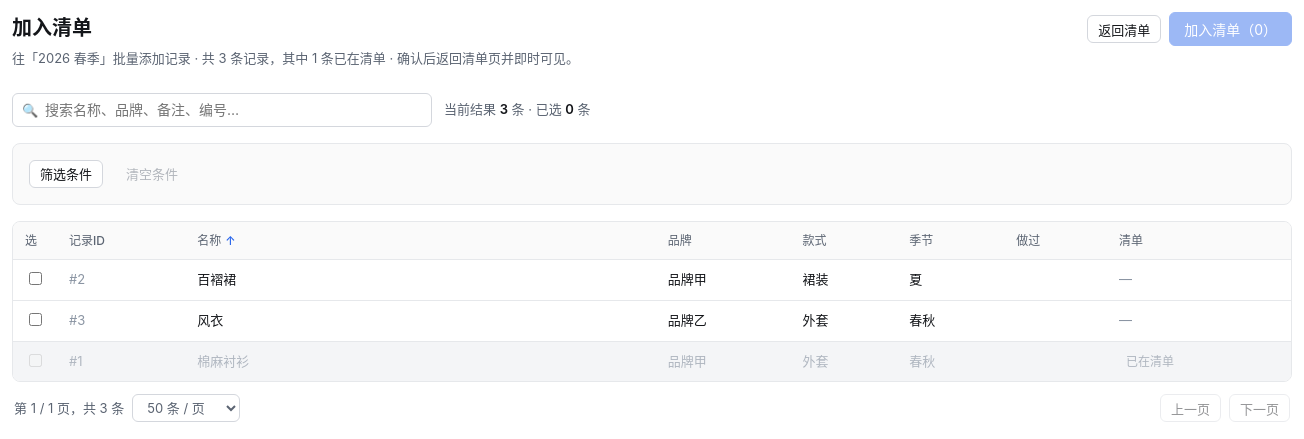
v6.9 · 多选与批量加入 › 搜索过滤本地生效：输入关键词后只剩命中行（不写全局 filters）
Type "风衣" into the search field with placeholder "搜索名称、品牌、备注、编号…".
click(222, 110); type("风衣")  # box [12, 93, 432, 127]
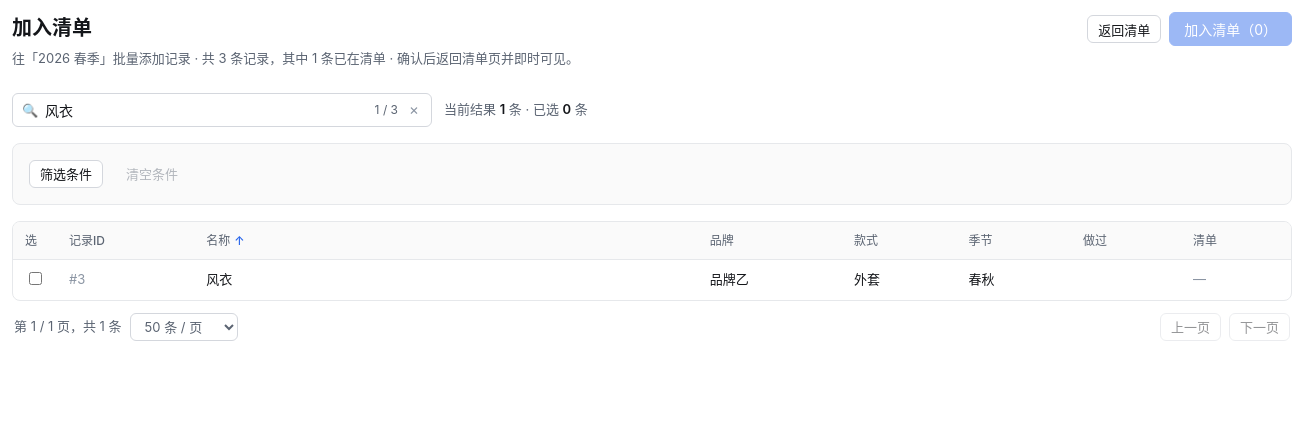
Check: the row with test id "iw-plan-add-row-3" is shown, box [13, 260, 1291, 300]
Check: the row with test id "iw-plan-add-row-1" is gone
Check: the row with test id "iw-plan-add-row-2" is gone
